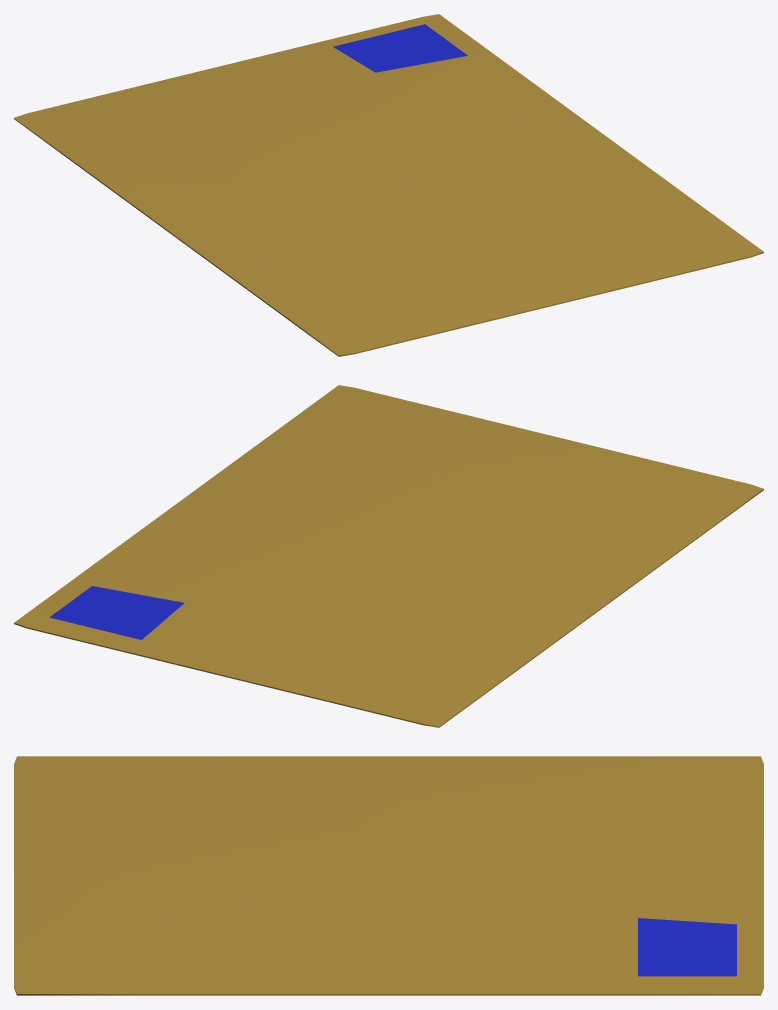
The model's file is Letter2.FBX.
The picture shows the model from 3 angles, top to bottom: view 1: azimuth 30°, elevation 25°; view 2: azimuth 150°, elevation 25°; view 3: azimuth 270°, elevation 25°; orthographic projection. The views are drawn at different scales.
Parts seen in each view (by area): view 1: Letter, Stamp; view 2: Letter, Stamp; view 3: Letter, Stamp.
Part boxes in pixels (left/top/right/bottom): Letter: left=14, top=14, right=763, bottom=356; Stamp: left=333, top=24, right=467, bottom=72; Letter: left=14, top=385, right=763, bottom=727; Stamp: left=49, top=586, right=183, bottom=639; Letter: left=14, top=756, right=763, bottom=995; Stamp: left=638, top=918, right=736, bottom=976.
Size of the model in its own units: 11.81 by 0.7755 by 15.75.
